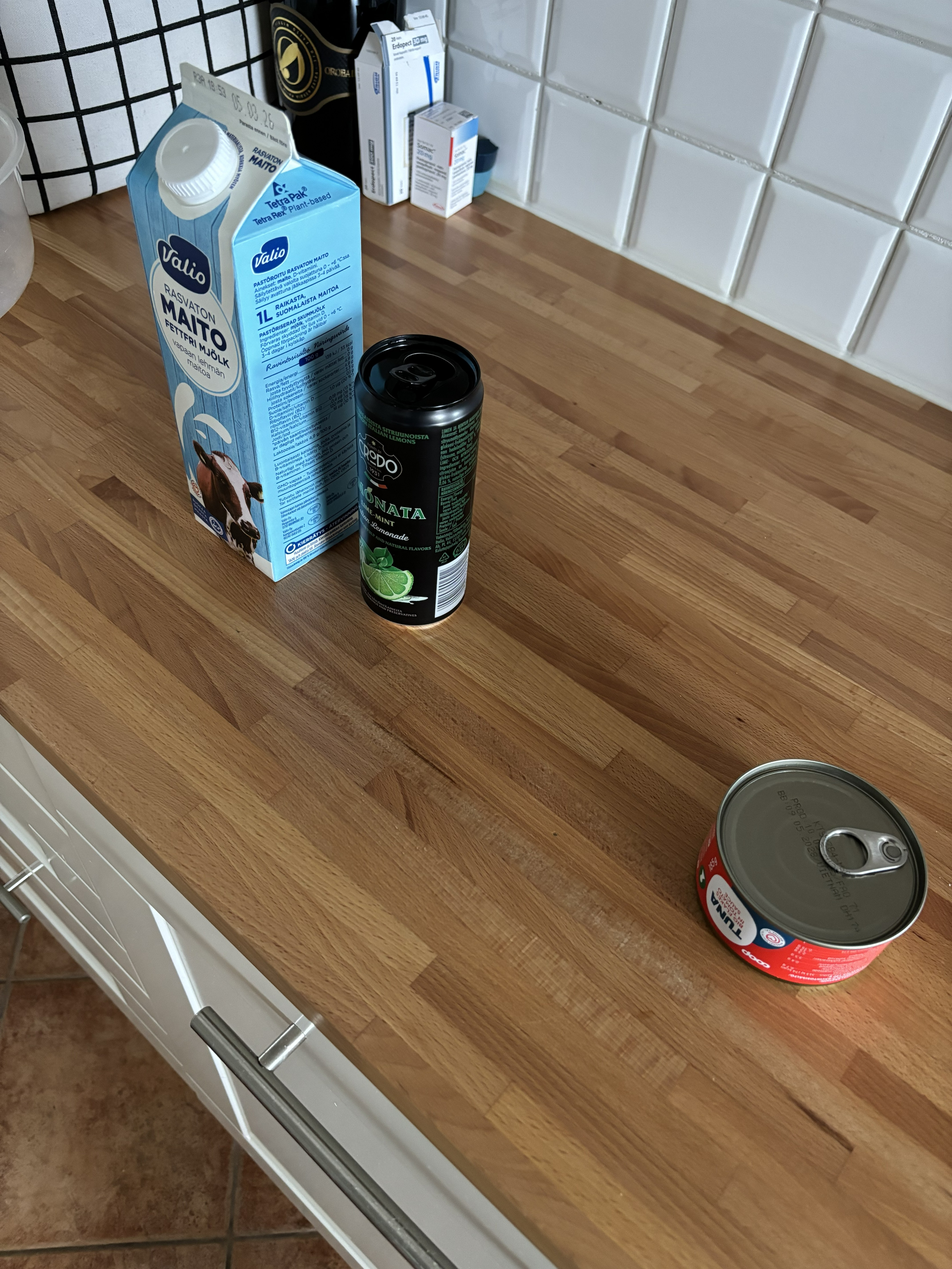Dryckeskartong: (120, 55, 365, 587)
Konservburk: (694, 759, 927, 996)
Pantburk: (355, 327, 483, 636)
